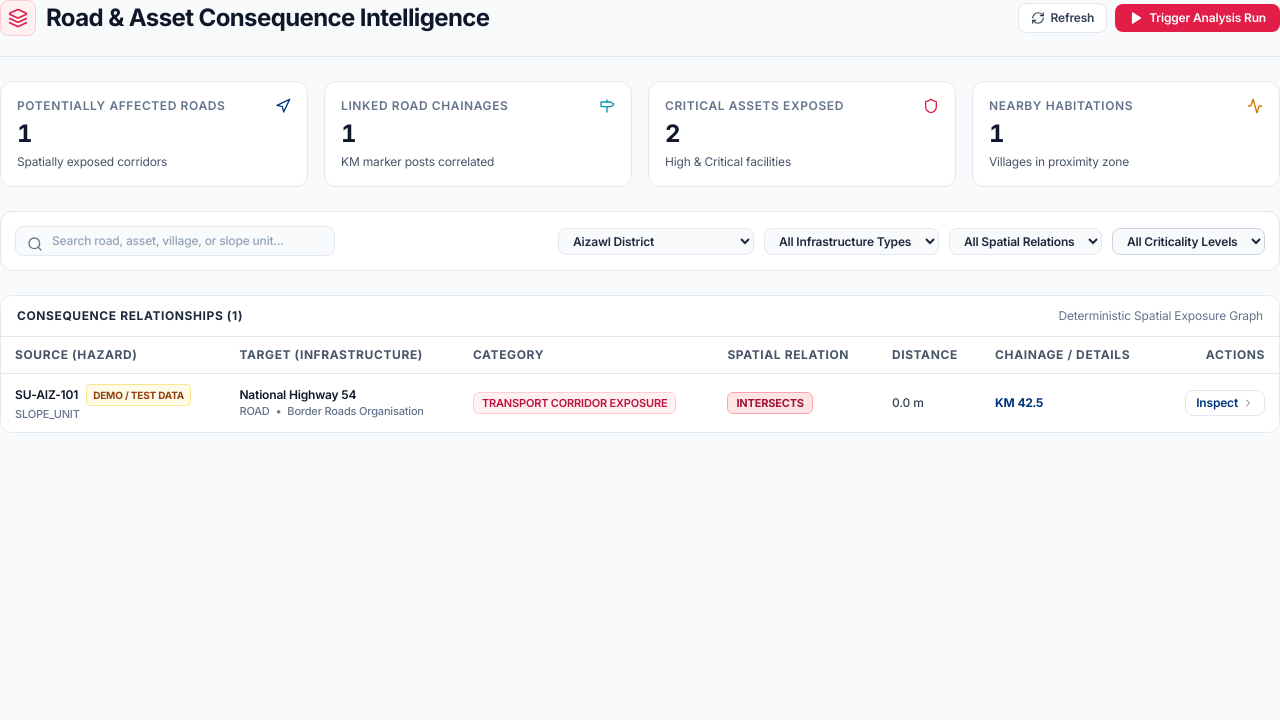
Test: Stage 7 Road & Asset Consequence Intelligence (Frontend Unit Tests) › Provenance & Demo-Data Production Isolation › displays DEMO / TEST DATA badge and CLIENT DEMONSTRATION RECORD warning for demo fixtures
Expected: the text "DEMO / TEST DATA" is shown, [86, 384, 191, 406]
# Click inspect button
Click the button "Inspect". click: (1225, 403)
box: [1185, 390, 1265, 416]
(page scrolled)
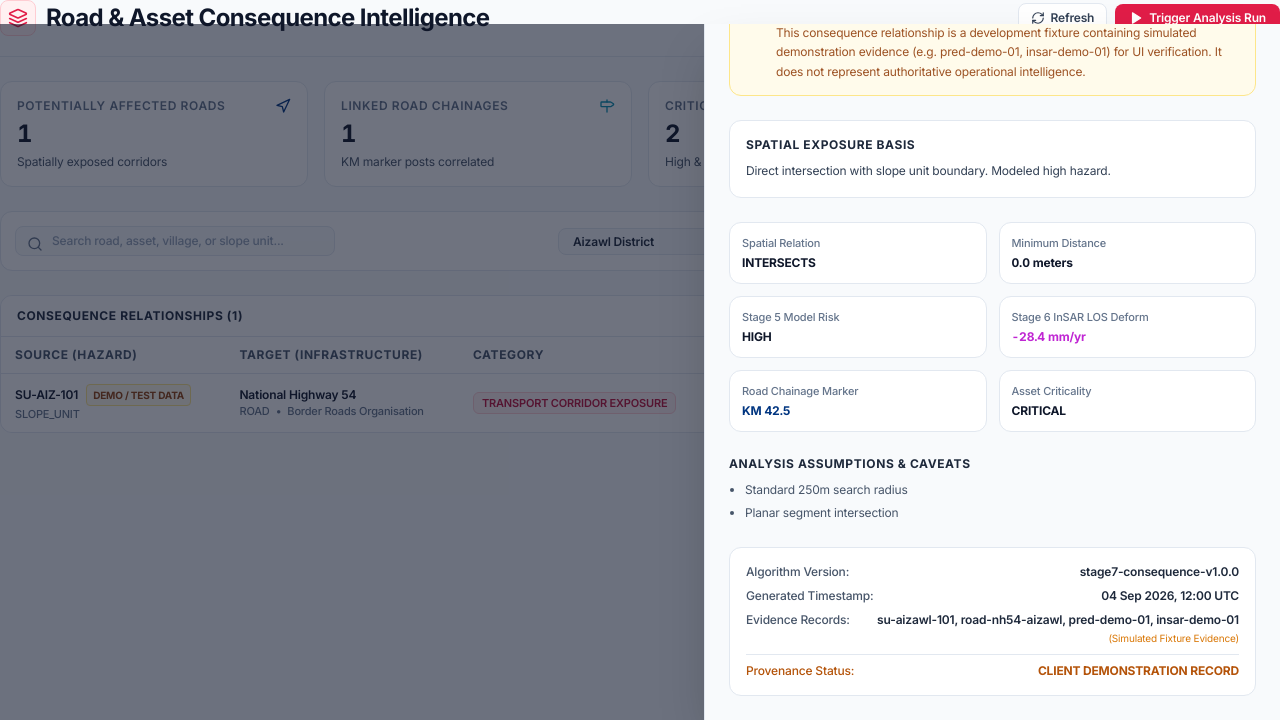
Expected: the text "This consequence relationship is a development fixture containing simulated demonstration evidence" is shown, [776, 25, 1222, 79]
Expected: the text "(Simulated Fixture Evidence)" is shown, [1108, 632, 1239, 644]
